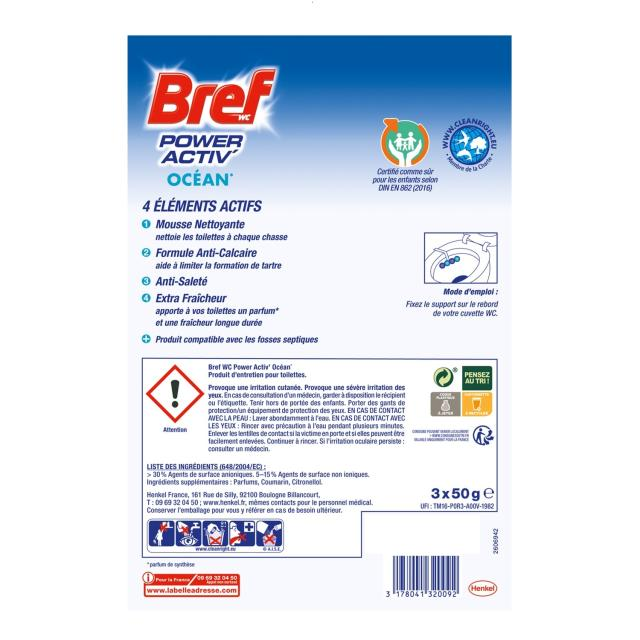GHS_Symbol_EXCLAMATION_MARK: (146, 364, 206, 423)
